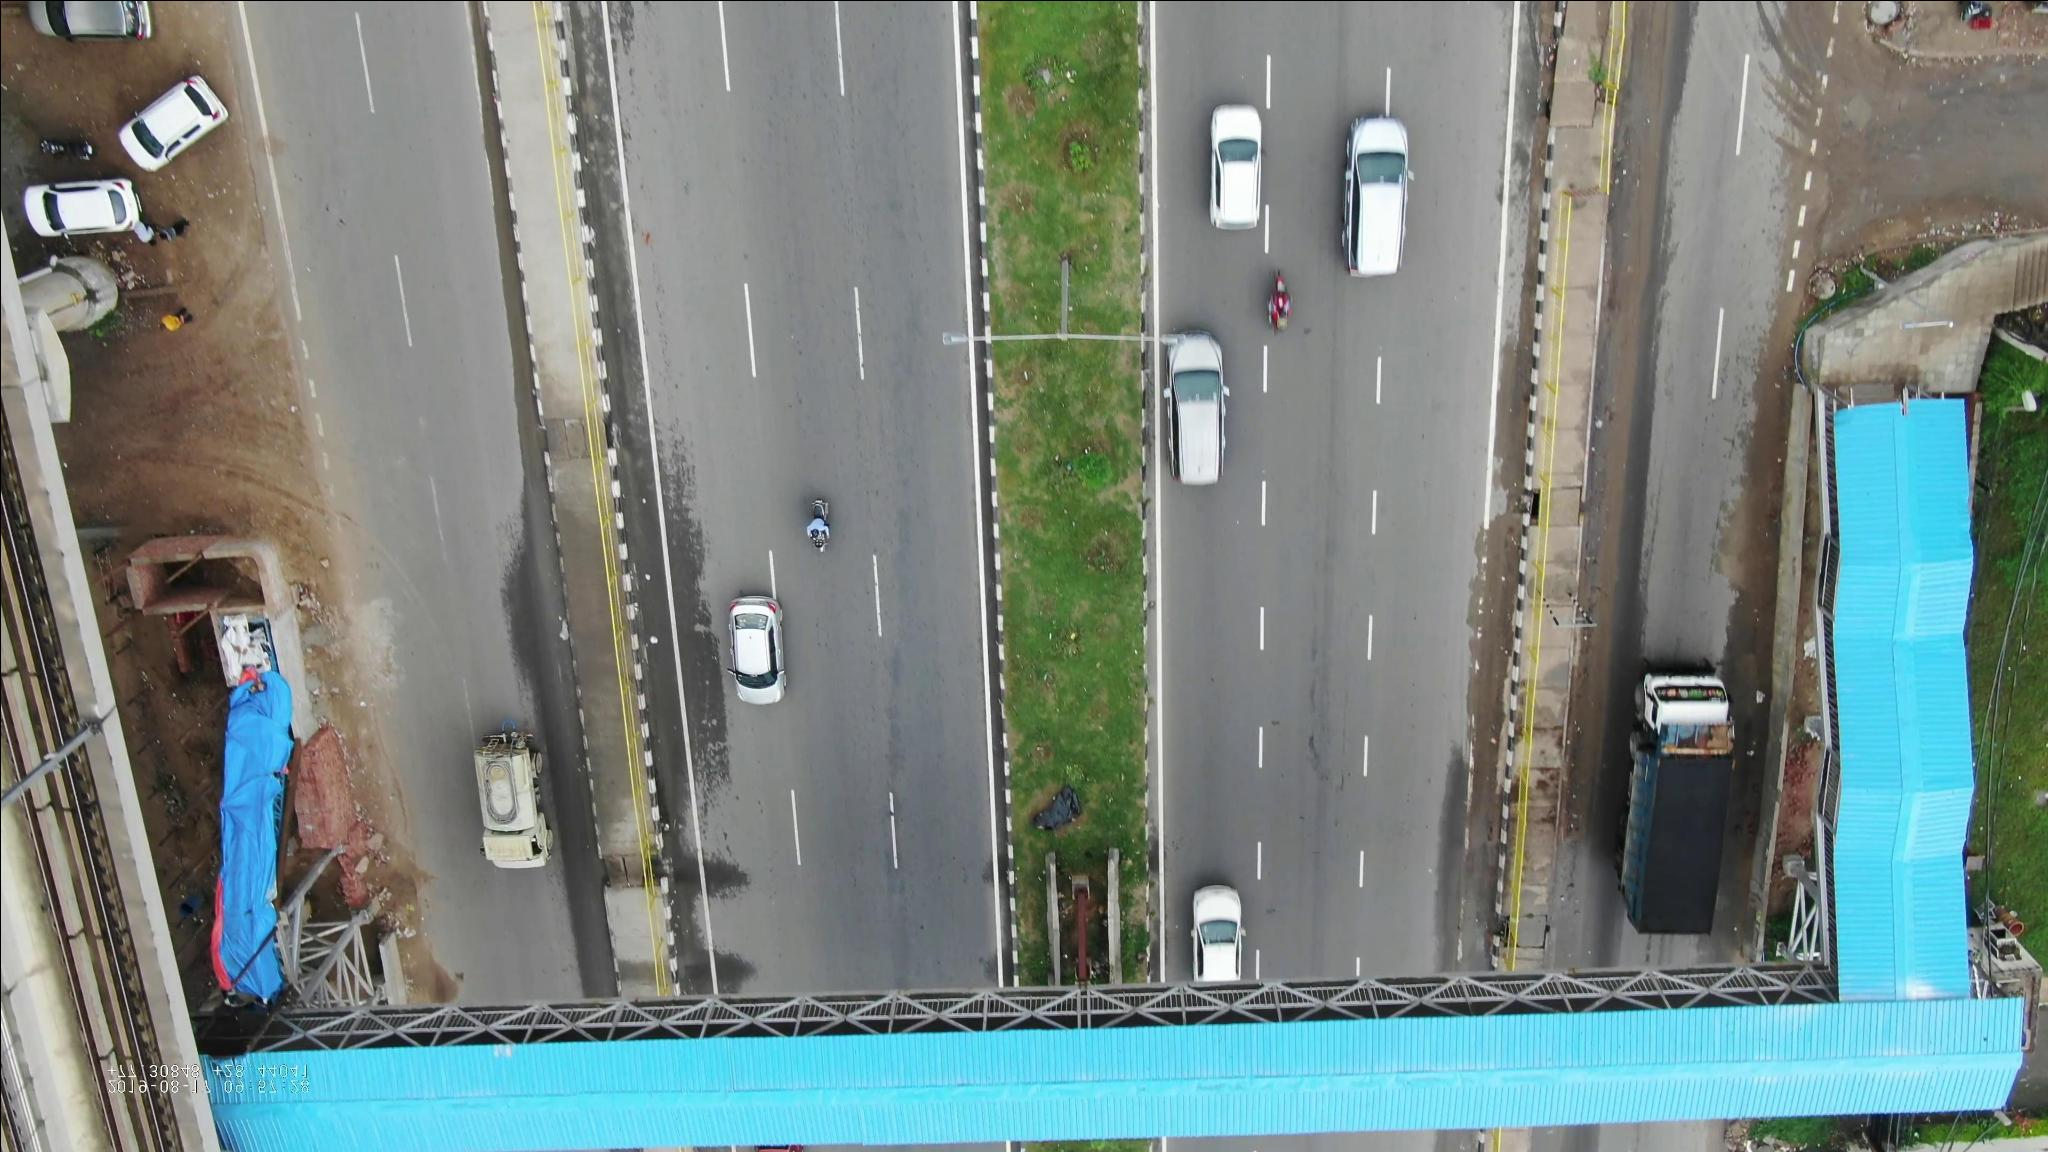Muddy_road: (1563, 568, 1644, 821), (1715, 433, 1805, 627), (1578, 359, 1663, 550), (1466, 577, 1523, 800), (1471, 343, 1537, 487)
